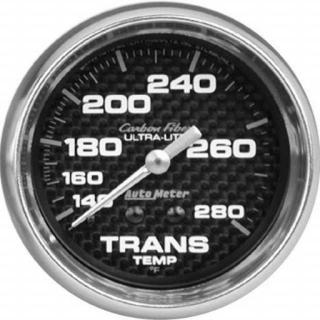gauge: (0, 0, 320, 320), (213, 205, 264, 249), (56, 202, 94, 242), (144, 148, 172, 176), (69, 221, 77, 229)
